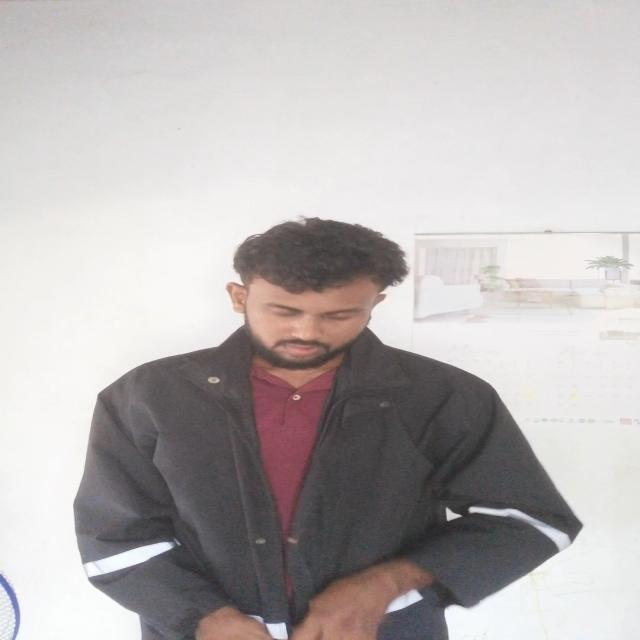Jacket_Wearer: (68, 295, 585, 640)
